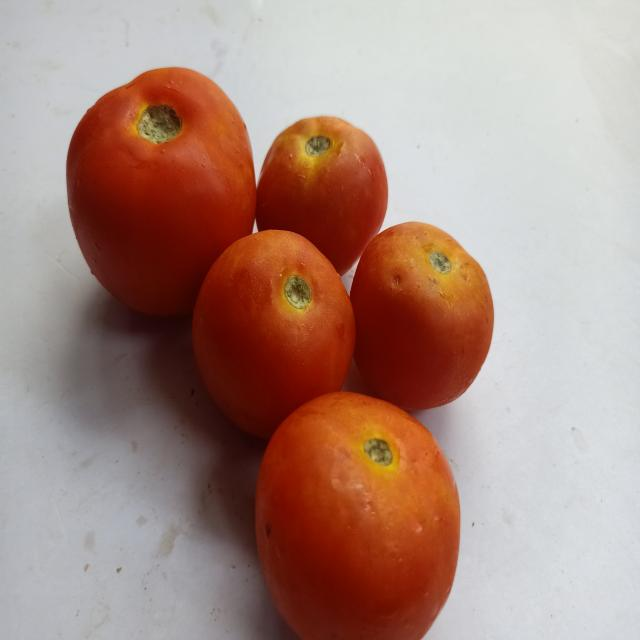Tomato: (47, 59, 259, 330), (252, 390, 468, 640), (188, 225, 361, 450), (349, 206, 497, 417), (254, 110, 392, 278)
